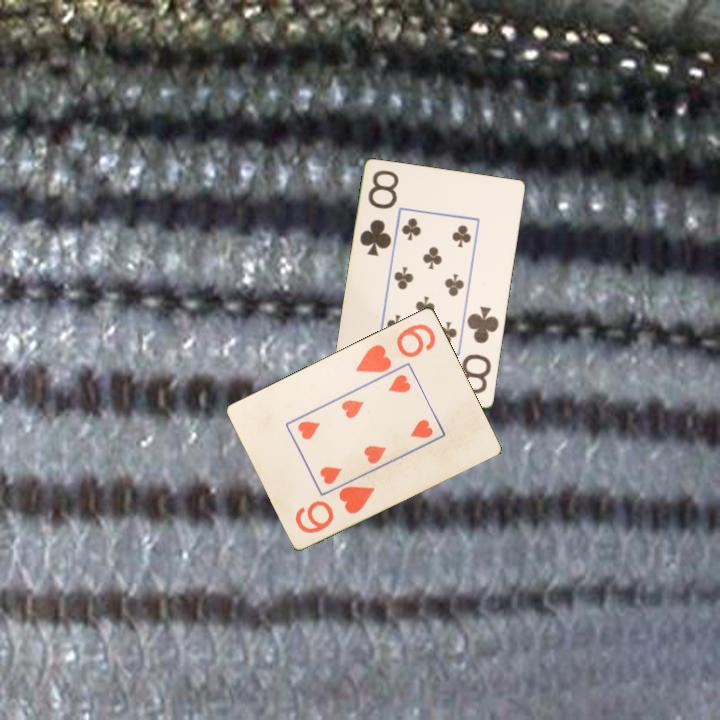6h: (291, 480, 378, 536), (352, 320, 439, 375)
8c: (356, 167, 402, 259), (457, 303, 502, 397)
